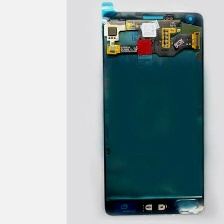phone: (100, 6, 212, 219)
